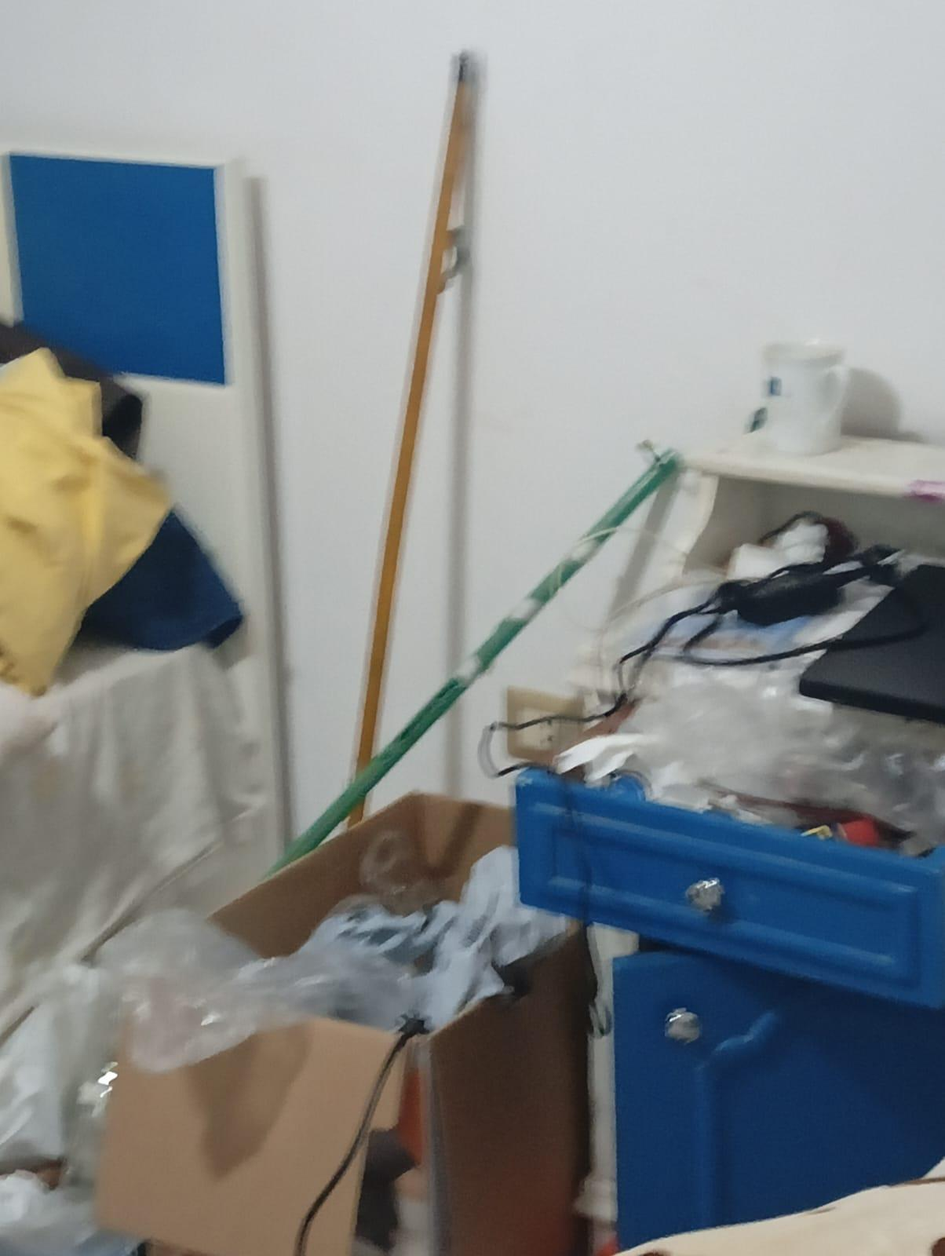cup: (763, 341, 848, 454)
